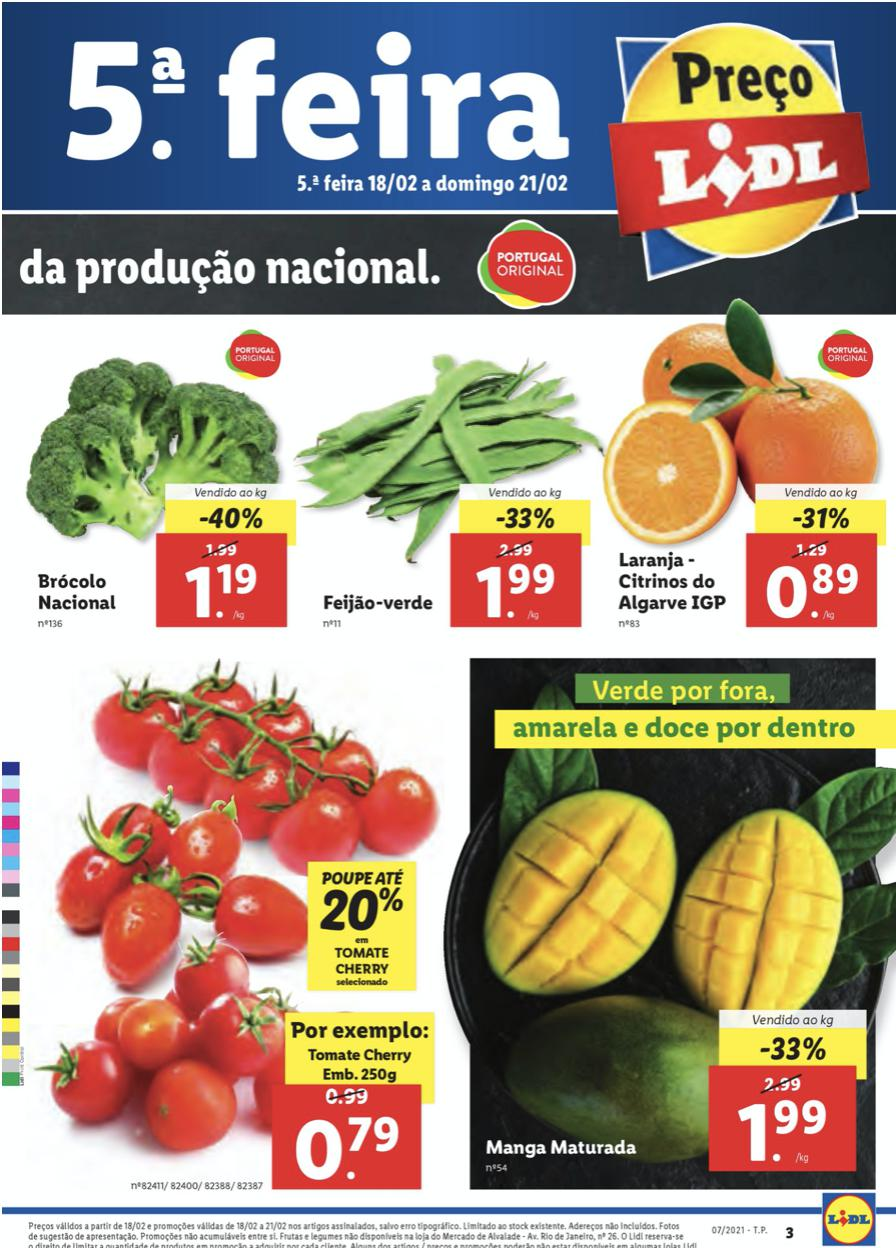name: (612, 546, 734, 615), (31, 568, 123, 617), (485, 1137, 643, 1163), (317, 591, 443, 620)
price: (292, 1111, 408, 1186), (765, 560, 865, 625), (734, 1099, 829, 1165), (179, 557, 263, 625), (474, 559, 560, 625)
product: (36, 662, 443, 1208), (482, 768, 872, 1179), (19, 331, 309, 645), (296, 342, 592, 648), (602, 326, 886, 639)
promotion: (319, 886, 412, 934), (756, 1032, 831, 1063), (197, 502, 266, 534), (489, 502, 559, 532), (785, 503, 857, 532)
